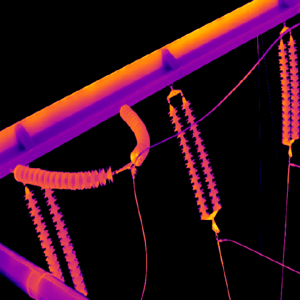insulator: (39, 182, 87, 295), (167, 102, 209, 219), (180, 94, 222, 210), (21, 185, 64, 282), (11, 161, 112, 189), (118, 103, 149, 167), (276, 36, 290, 146), (286, 33, 299, 141)
